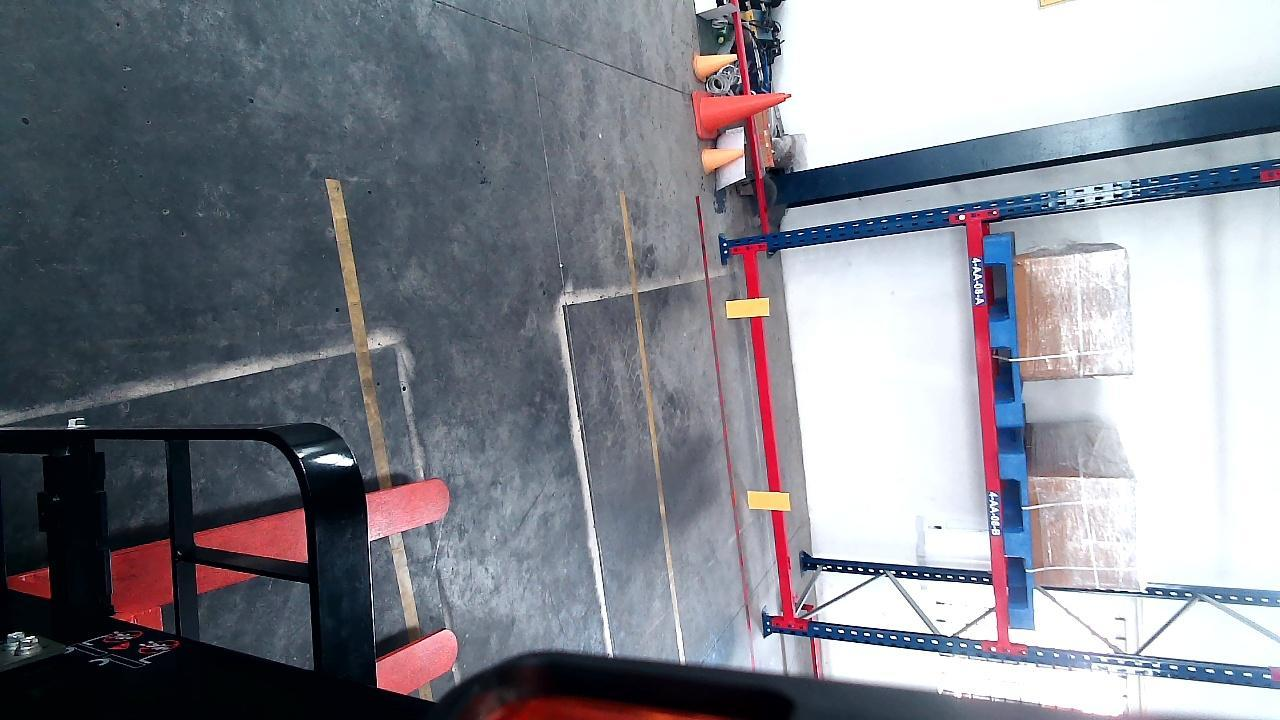red_line: (692, 198, 750, 630)
yellow_line: (323, 176, 415, 635), (622, 188, 681, 641)
